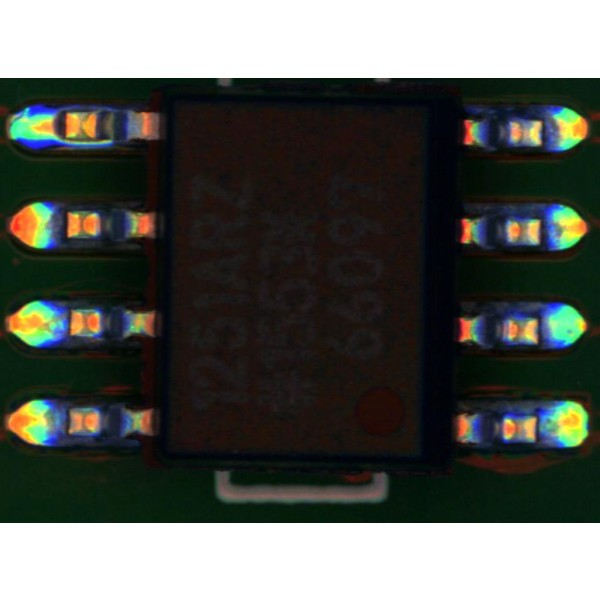Bad_qiaojiao: (57, 140, 117, 149)
